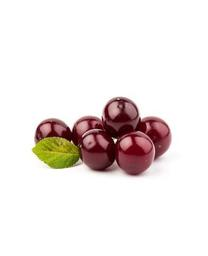cherry: (116, 131, 155, 175), (103, 97, 141, 138), (78, 129, 115, 170), (138, 117, 172, 159), (35, 119, 72, 152), (71, 116, 106, 148)
